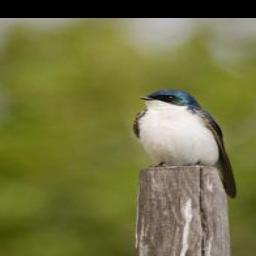Swallow: (129, 84, 238, 199)
